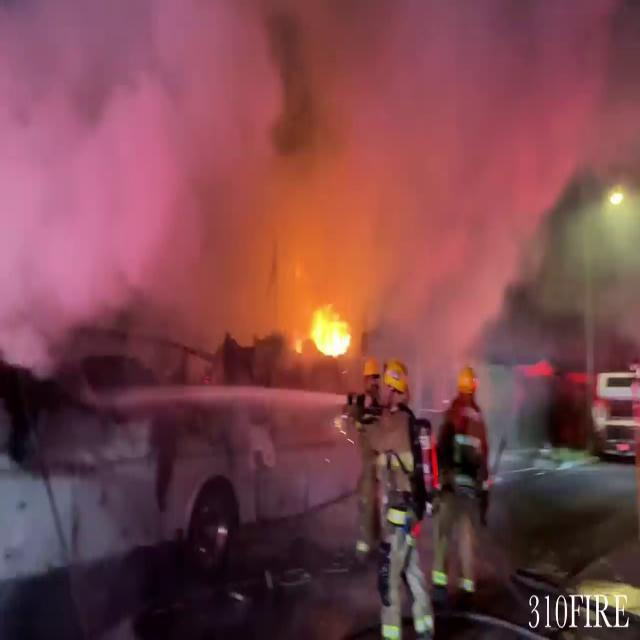Fire: (294, 297, 362, 371)
Smoke: (1, 1, 630, 352)
